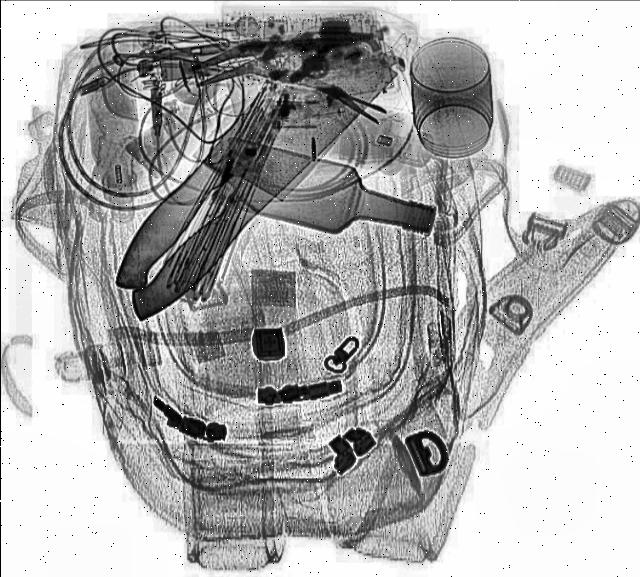Knife: (78, 26, 394, 330), (96, 22, 398, 326)
